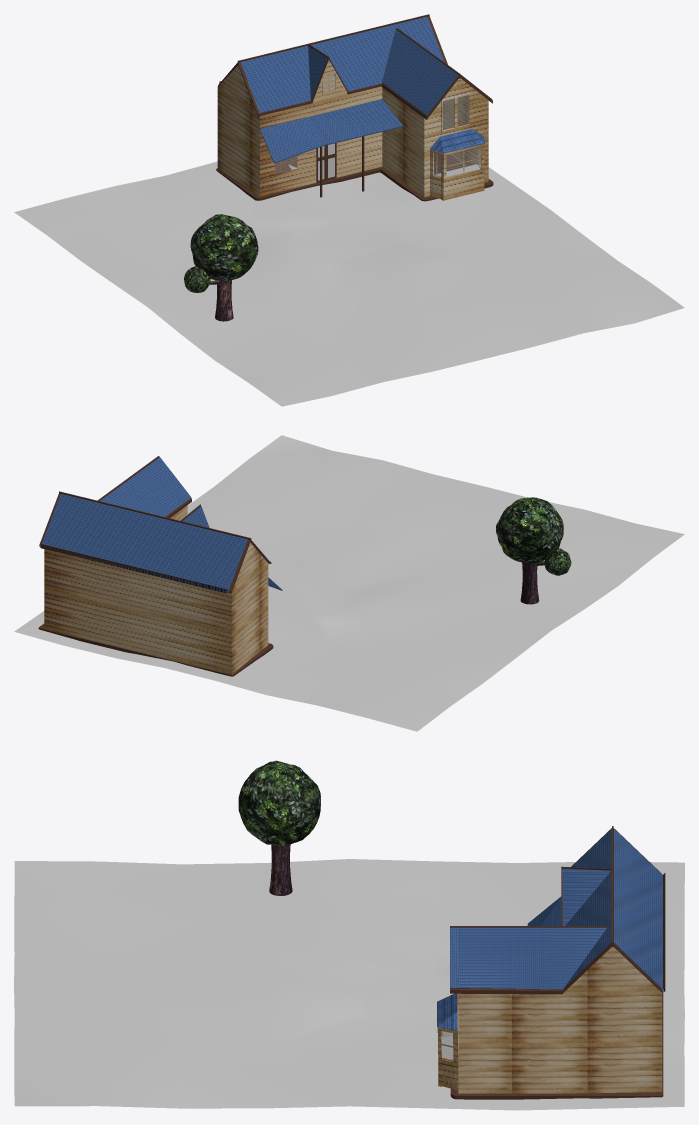
The model's file is MApa1.fbx.
3 views of the same model, one above another, from view 1: azimuth 30°, elevation 25°; view 2: azimuth 150°, elevation 25°; view 3: azimuth 270°, elevation 25° (orthographic). The views are drawn at different scales.
Parts seen in each view (by area): view 1: Pasto, Box001, Object001, Object002; view 2: Pasto, Box001, Object001, Object002, Object003; view 3: Pasto, Box001, Object001, Object002.
Part boxes in pixels (x1,y1,x2,y2): Pasto: (14,154,684,406); Box001: (216,14,493,201); Object001: (190,214,258,280); Object002: (209,280,233,321); Pasto: (14,435,684,731); Box001: (38,456,282,676); Object001: (496,497,563,564); Object002: (520,561,544,604); Object003: (544,548,571,575); Pasto: (14,859,684,1110); Box001: (437,826,665,1099); Object001: (238,760,320,846); Object002: (269,844,292,895).
Size of the model in its own units: 46.68 by 14.25 by 53.71.
